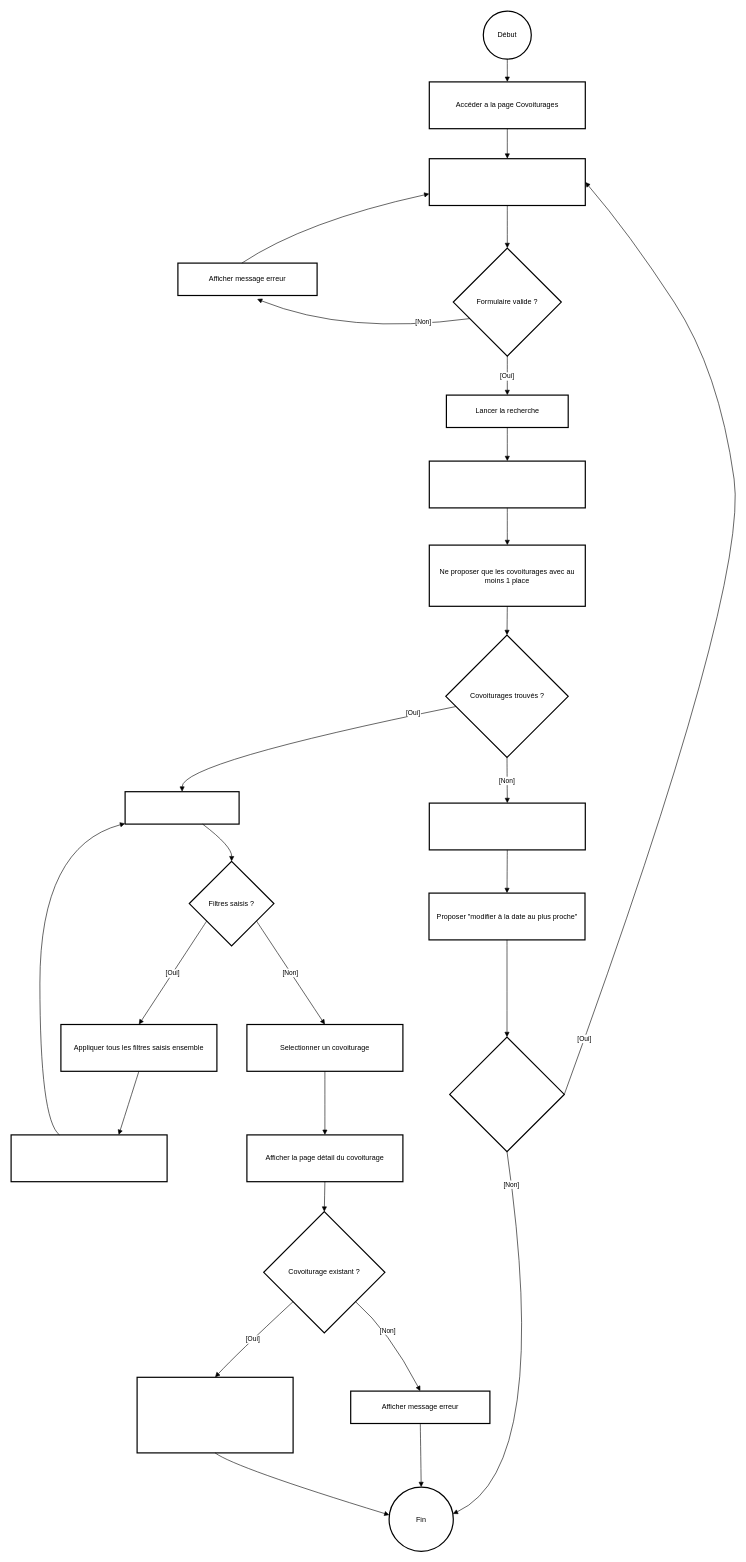
This 746x1562 diagram has some shape labels left out. The centre of each missing label's shape, as x and y in pixels:
Afficher les covoiturages proposés: (x=507, y=484)
Afficher les filtres: (x=181, y=807)
Afficher message "sans résultat": (x=507, y=826)
Afficher toutes les informations du covoiturage et les avis sur le chauffeur: (x=214, y=1414)
Le visiteur accepte ?: (x=507, y=1094)
Mettre a jour la liste selon les filtres: (x=88, y=1158)
Saisir les critères : ville départ, ville arrivée, date, heure: (x=507, y=182)
